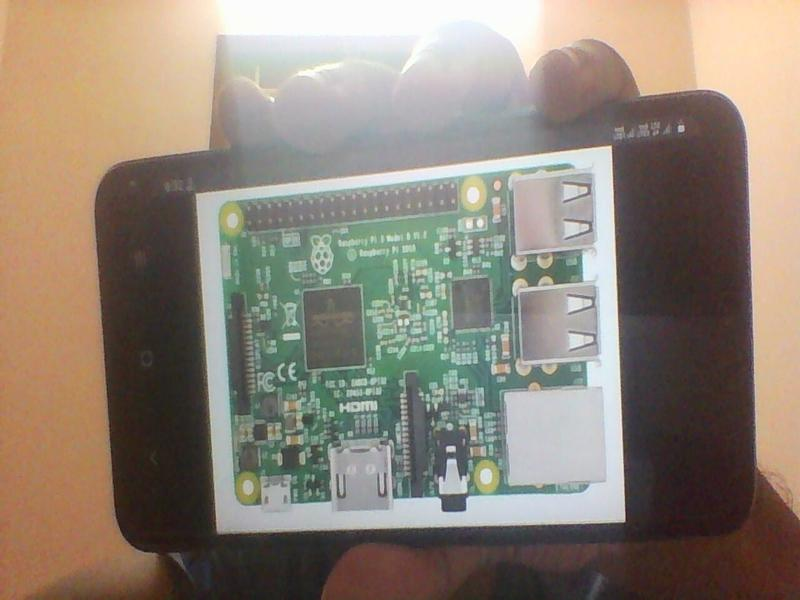aud: (435, 425, 475, 513)
eth: (501, 386, 611, 490)
usb: (509, 168, 599, 257), (511, 283, 603, 367)
